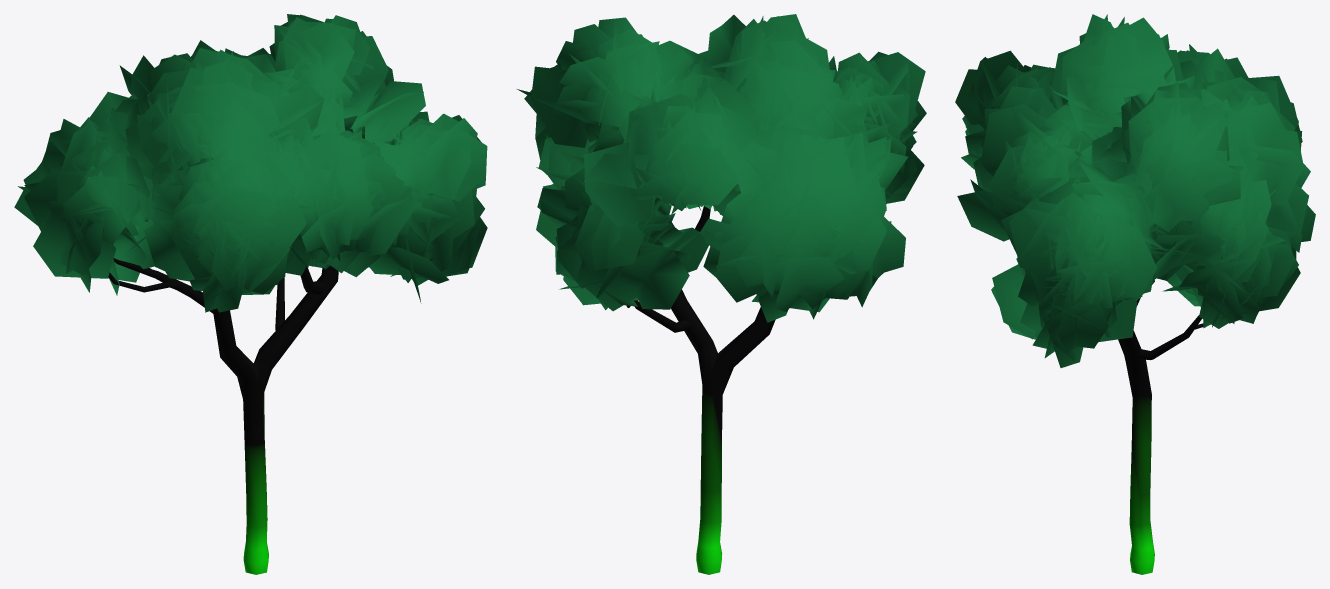
The model's file is SM_BirchTreeB2.fbx.
The picture shows the model from 3 angles, left to right: view 1: azimuth 30°, elevation 25°; view 2: azimuth 150°, elevation 25°; view 3: azimuth 270°, elevation 25°; orthographic projection. The views are drawn at different scales.
Parts seen in each view (by area): view 1: SM_BirchTreeB2_LOD0; view 2: SM_BirchTreeB2_LOD0; view 3: SM_BirchTreeB2_LOD0.
Boxes of the visible parts, <box> form: SM_BirchTreeB2_LOD0: <box>14,14,487,574</box>; SM_BirchTreeB2_LOD0: <box>517,14,926,574</box>; SM_BirchTreeB2_LOD0: <box>955,14,1315,574</box>.
Size of what is drawn, in the model's own units: 1672 by 2139 by 1326.
